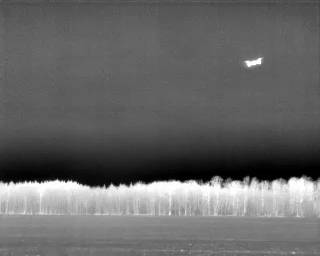DRONE: (240, 52, 267, 73)
